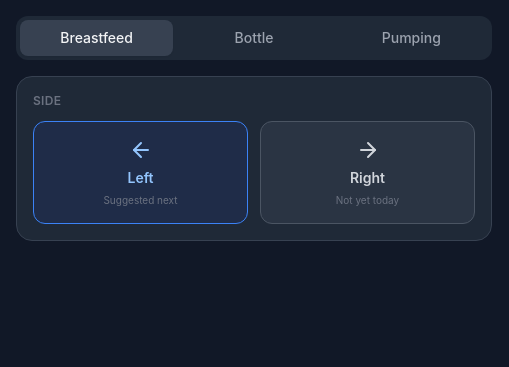
Scenario: FeedingPage › shows the bottle form when Bottle tab is tapped
The width and height of the screenshot is (509, 367).
Click the button "Bottle": x=254, y=38 [177,20,331,56]
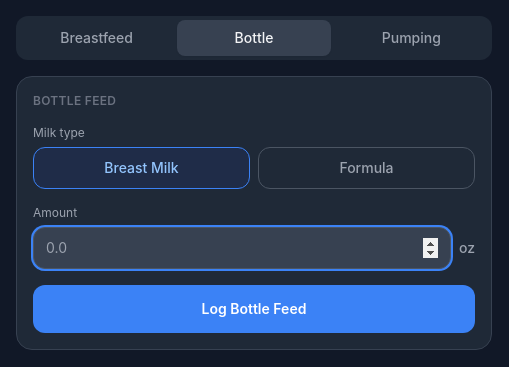
Expected: the number field with placeholder "0.0" is shown, [33,227,451,269]
